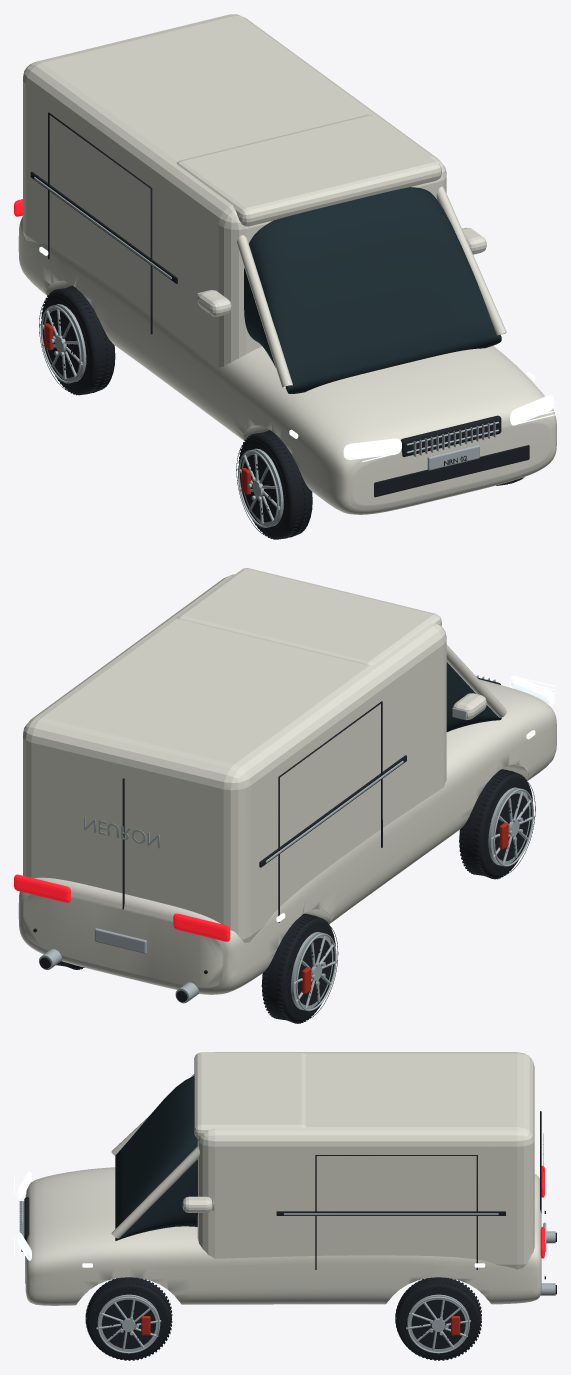
The model's file is car-2.glb.
3 views of the same model, one above another, from view 1: azimuth 30°, elevation 25°; view 2: azimuth 150°, elevation 25°; view 3: azimuth 270°, elevation 25° (orthographic). The views are drawn at different scales.
Visible parts, largest first — view 1: SM_car_2_Paint, SM_car_2_Tinted_glazing, Wheel_L_Rear, Wheel_L_Front, SM_car_2_Tyres_and_trim, SM_car_2_Machined_alloy, SM_car_2_Headlight_lens; view 2: SM_car_2_Paint, Wheel_L_Rear, Wheel_L_Front, SM_car_2_Machined_alloy, SM_car_2_Tyres_and_trim, SM_car_2_Rear_LED, SM_car_2_Tinted_glazing, SM_car_2_Headlight_lens; view 3: SM_car_2_Paint, SM_car_2_Tinted_glazing, Wheel_R_Front, Wheel_R_Rear, SM_car_2_Machined_alloy, SM_car_2_Tyres_and_trim, SM_car_2_Headlight_lens.
Part boxes in pixels (<box>): SM_car_2_Paint: <box>18,14,556,514</box>; SM_car_2_Tinted_glazing: <box>244,187,501,393</box>; Wheel_L_Rear: <box>39,285,115,395</box>; Wheel_L_Front: <box>236,430,312,539</box>; SM_car_2_Tyres_and_trim: <box>30,112,529,497</box>; SM_car_2_Machined_alloy: <box>34,177,499,523</box>; SM_car_2_Headlight_lens: <box>39,246,555,462</box>; SM_car_2_Paint: <box>18,568,556,994</box>; Wheel_L_Rear: <box>261,913,338,1023</box>; Wheel_L_Front: <box>459,769,535,879</box>; SM_car_2_Machined_alloy: <box>39,675,534,1007</box>; SM_car_2_Tyres_and_trim: <box>33,677,500,1002</box>; SM_car_2_Rear_LED: <box>14,874,230,941</box>; SM_car_2_Tinted_glazing: <box>446,662,501,731</box>; SM_car_2_Headlight_lens: <box>276,675,555,922</box>; SM_car_2_Paint: <box>25,1052,541,1305</box>; SM_car_2_Tinted_glazing: <box>115,1076,197,1240</box>; Wheel_R_Front: <box>85,1277,172,1360</box>; Wheel_R_Rear: <box>395,1277,481,1360</box>; SM_car_2_Machined_alloy: <box>19,1133,555,1350</box>; SM_car_2_Tyres_and_trim: <box>24,1111,556,1294</box>; SM_car_2_Headlight_lens: <box>14,1171,485,1267</box>.
Bounding box in the file's own units: 2.44 × 2.43 × 5.3.
